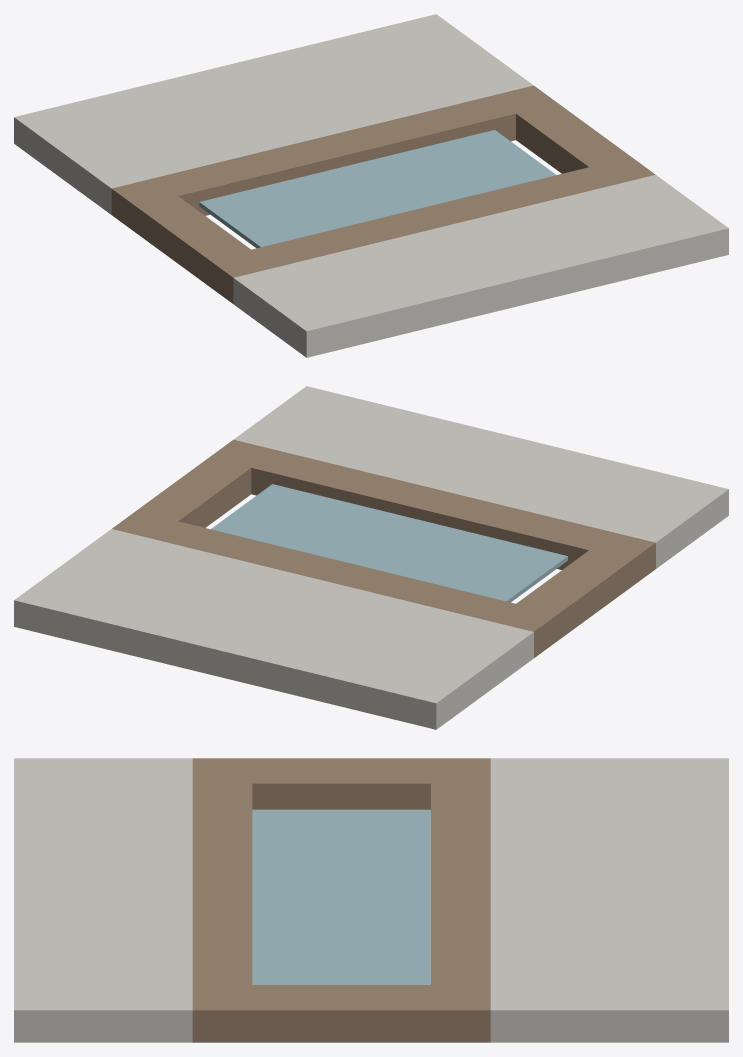
File: wall_window.glb
The picture shows the model from 3 angles, top to bottom: view 1: azimuth 30°, elevation 25°; view 2: azimuth 150°, elevation 25°; view 3: azimuth 270°, elevation 25°; orthographic projection. The views are drawn at different scales.
Parts seen in each view (by area): view 1: world; view 2: world; view 3: world.
Part boxes in pixels (x1=…): world: x1=14, y1=14, x2=728, y2=357; world: x1=14, y1=386, x2=728, y2=729; world: x1=14, y1=758, x2=728, y2=1042.
Bounding box in the file's own units: 2 × 0.12 × 2.4.
